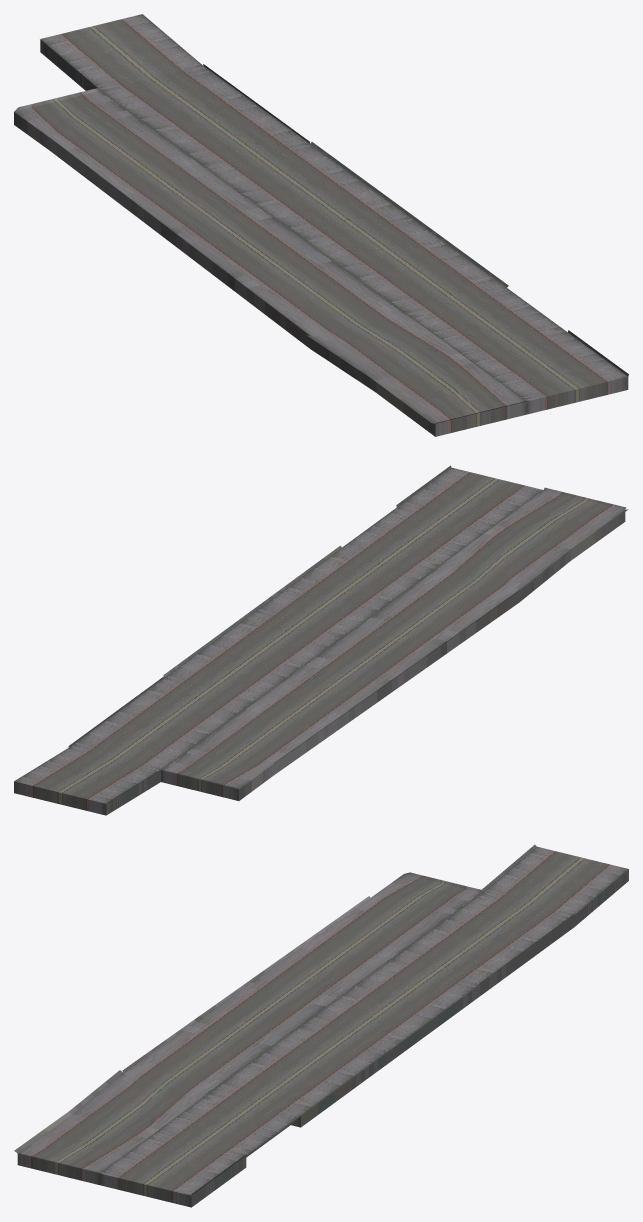
File: lodroadssfse41.obj
3 views of the same model, one above another, from view 1: azimuth 30°, elevation 25°; view 2: azimuth 150°, elevation 25°; view 3: azimuth 330°, elevation 25° (orthographic). The views are drawn at different scales.
Parts seen in each view (by area): view 1: LODroadsSFSE41; view 2: LODroadsSFSE41; view 3: LODroadsSFSE41.
Part boxes in pixels (<box>): LODroadsSFSE41: <box>14,14,628,436</box>; LODroadsSFSE41: <box>14,465,628,815</box>; LODroadsSFSE41: <box>14,844,628,1207</box>.
Size of the model in its own units: 38.56 by 4.05 by 160.
Materials: 1 (1 with a texture image).
